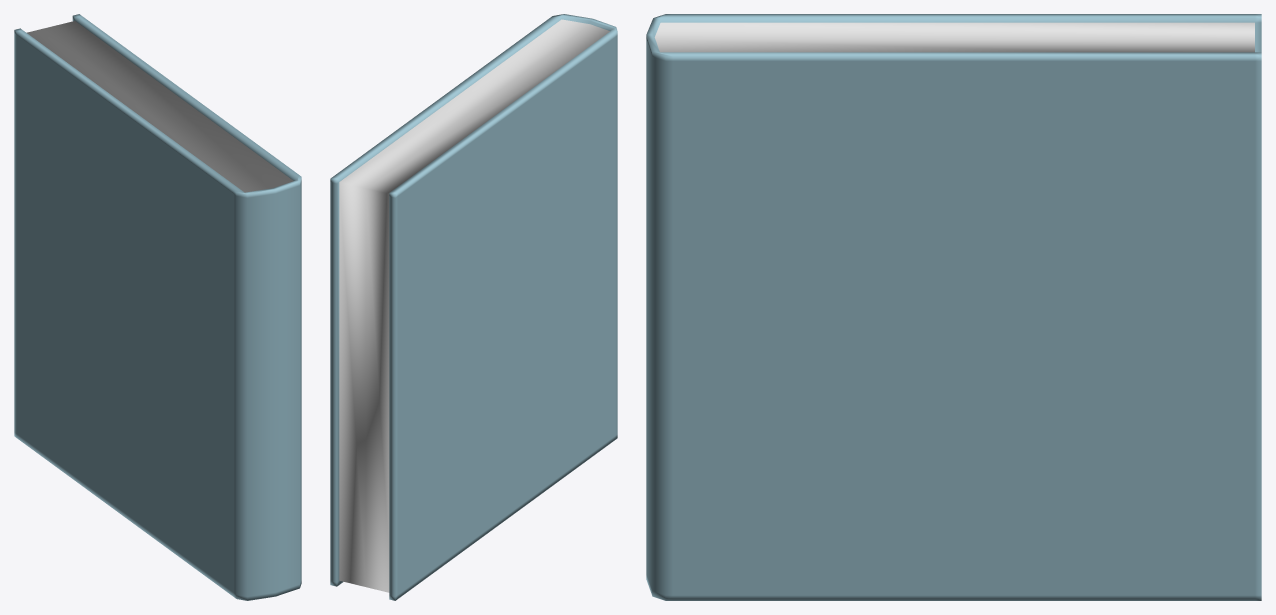
Rendered from Book_2.fbx.
3 renders of one model, left to right at view 1: azimuth 30°, elevation 25°; view 2: azimuth 150°, elevation 25°; view 3: azimuth 270°, elevation 25°, orthographic. The views are drawn at different scales.
Parts seen in each view (by area): view 1: Cube; view 2: Cube; view 3: Cube.
Part boxes in pixels (x1=…): Cube: x1=14, y1=14, x2=301, y2=600; Cube: x1=330, y1=14, x2=617, y2=600; Cube: x1=646, y1=14, x2=1261, y2=600.
Bounding box in the file's own units: 34.24 × 204 × 209.
